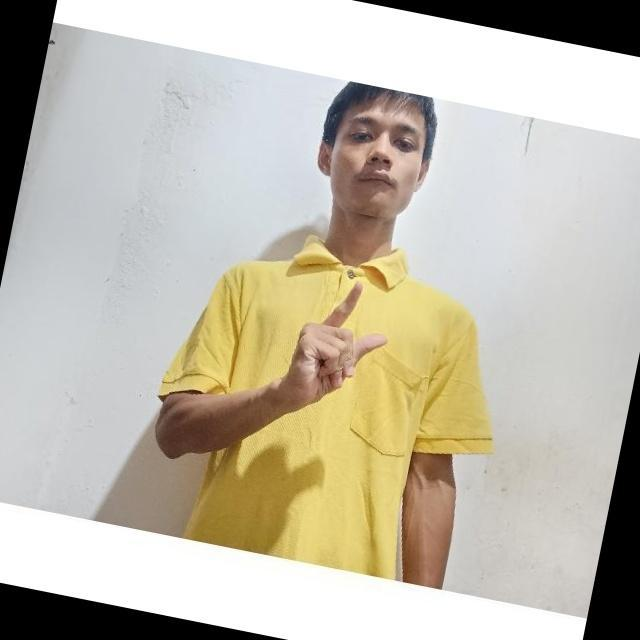R: (226, 238, 400, 454)
